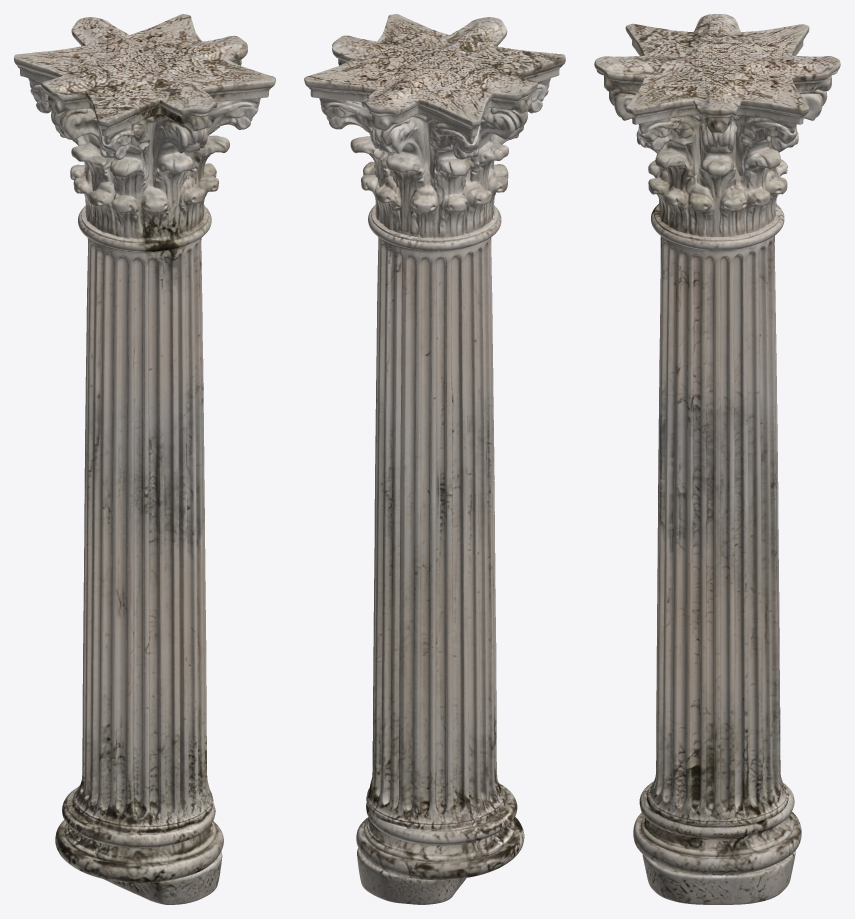
File: pillar.glb
3 views of the same model, side by side, from view 1: azimuth 30°, elevation 25°; view 2: azimuth 150°, elevation 25°; view 3: azimuth 270°, elevation 25° (orthographic).
Visible parts, largest first — view 1: model; view 2: model; view 3: model.
Boxes of the visible parts, x1,y1,x2,y2 form: model: [14, 14, 275, 904]; model: [304, 14, 565, 904]; model: [594, 14, 840, 904].
Size of the model in its own units: 0.4774 by 1.9 by 0.5179.
1 material, 1 textured.
